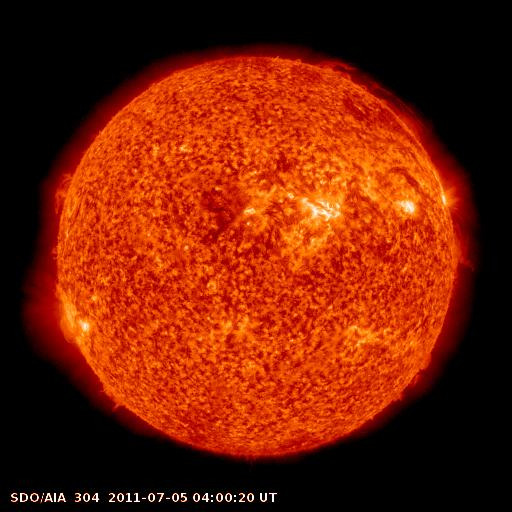prominence: (309, 54, 427, 144), (448, 218, 479, 277), (52, 312, 94, 353), (46, 168, 79, 219)
